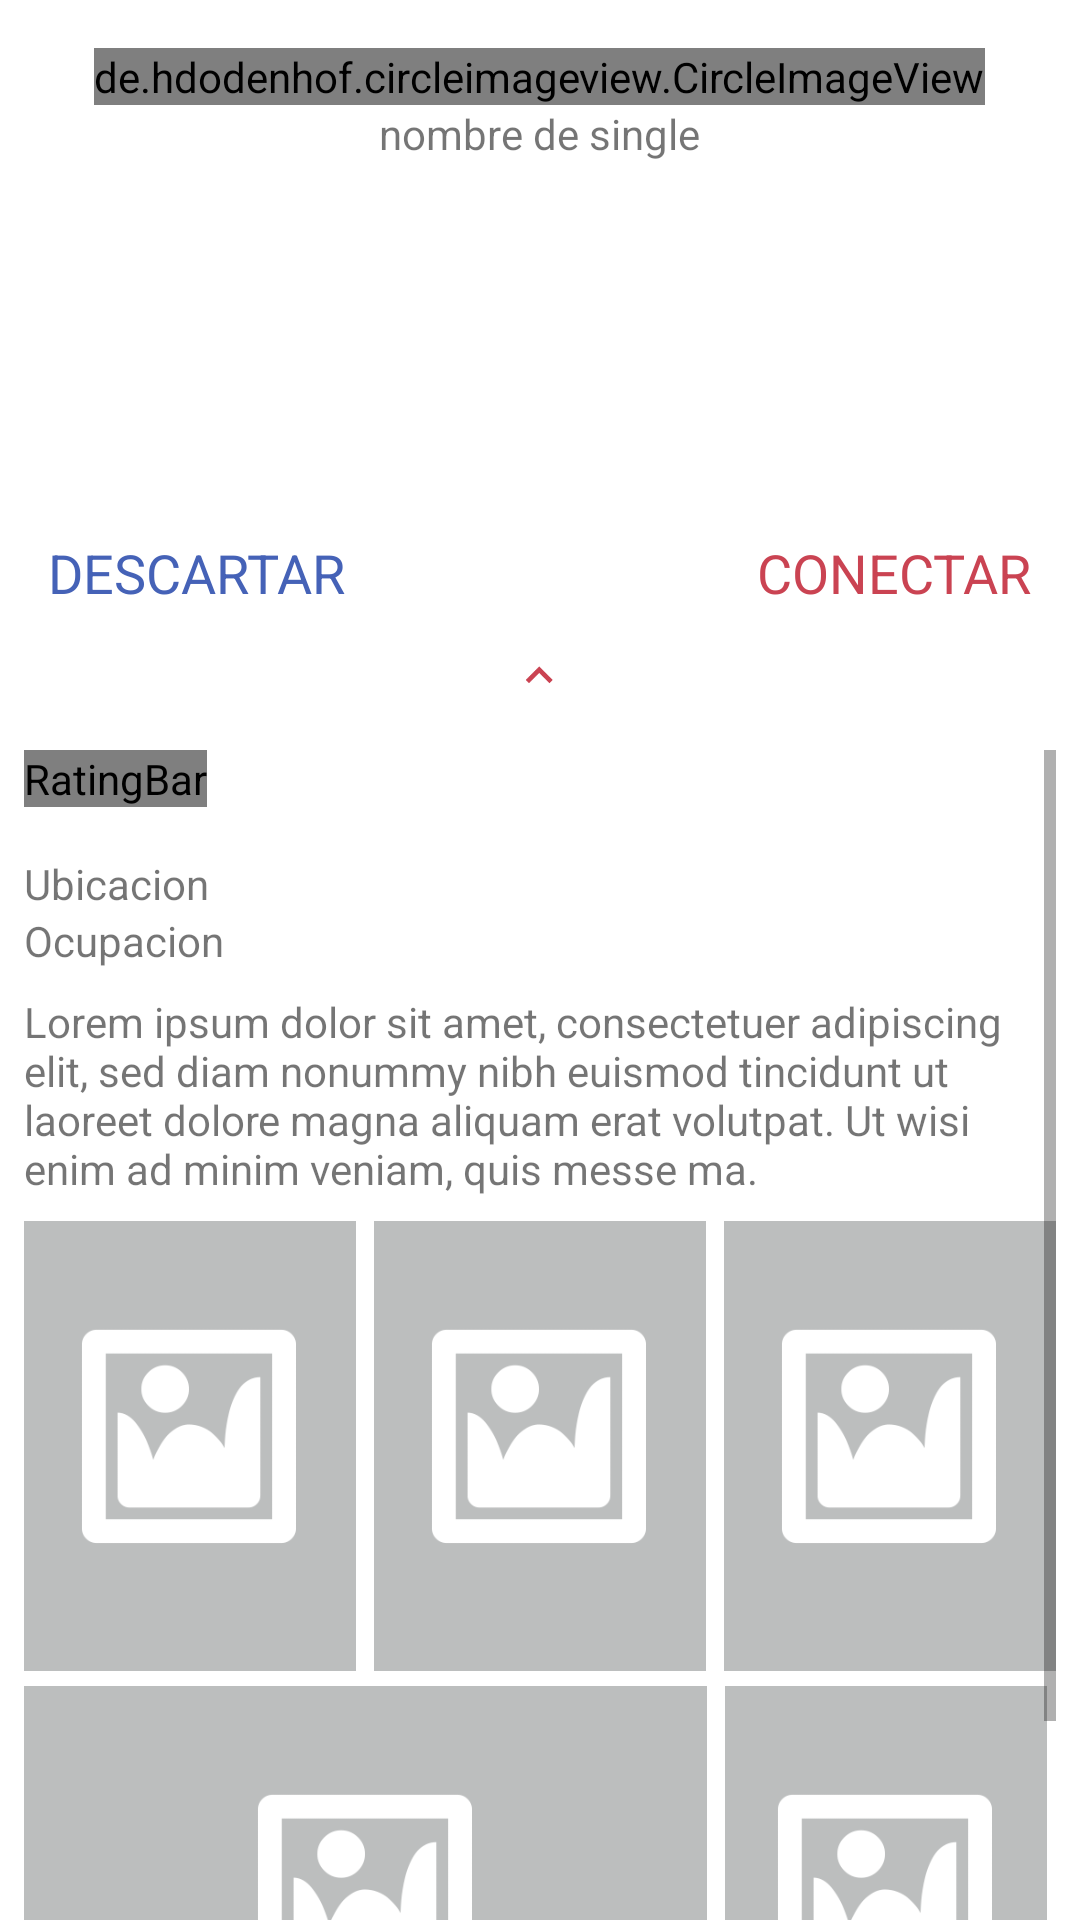

Named icons in this screenshot (1080*1920) and their bounding boxes, {"x1": x1, "y1": y1, "x2": x2, "y2": y2}:
swipe up: {"x1": 526, "y1": 666, "x2": 553, "y2": 683}
